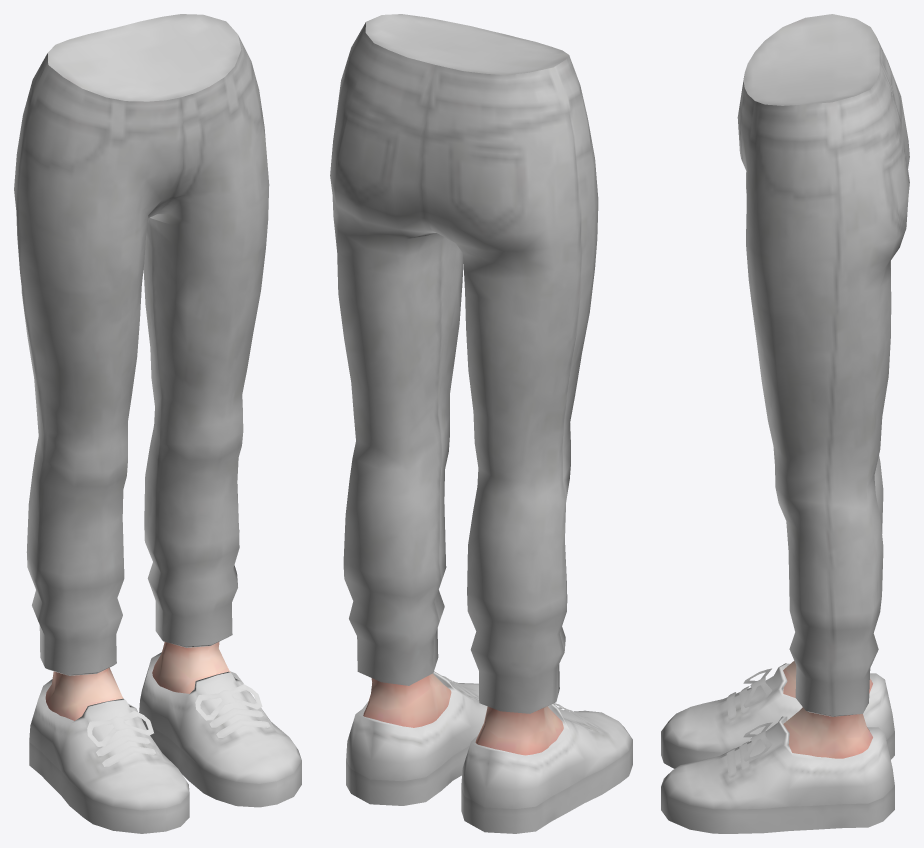
File: tr0810_00_lwb02.gltf
3 renders of one model, left to right at view 1: azimuth 30°, elevation 25°; view 2: azimuth 150°, elevation 25°; view 3: azimuth 270°, elevation 25°, orthographic. The views are drawn at different scales.
Visible parts, largest first — view 1: lwb02_lowerbody_mesh_shape:lowerbody02, lwb02_shoes_mesh_shape:lowerbody02, lwb02_lowerskin_mesh_shape:lowerbody02_skin; view 2: lwb02_lowerbody_mesh_shape:lowerbody02, lwb02_shoes_mesh_shape:lowerbody02, lwb02_lowerskin_mesh_shape:lowerbody02_skin; view 3: lwb02_lowerbody_mesh_shape:lowerbody02, lwb02_shoes_mesh_shape:lowerbody02, lwb02_lowerskin_mesh_shape:lowerbody02_skin.
Boxes of the visible parts, x1,y1,x2,y2 form: lwb02_lowerbody_mesh_shape:lowerbody02: (14, 14, 269, 675); lwb02_shoes_mesh_shape:lowerbody02: (29, 652, 301, 833); lwb02_lowerskin_mesh_shape:lowerbody02_skin: (45, 641, 230, 720); lwb02_lowerbody_mesh_shape:lowerbody02: (330, 14, 598, 713); lwb02_shoes_mesh_shape:lowerbody02: (346, 671, 632, 833); lwb02_lowerskin_mesh_shape:lowerbody02_skin: (363, 673, 563, 755); lwb02_lowerbody_mesh_shape:lowerbody02: (737, 14, 909, 716); lwb02_shoes_mesh_shape:lowerbody02: (661, 663, 894, 833); lwb02_lowerskin_mesh_shape:lowerbody02_skin: (783, 661, 872, 758).
Size of what is drawn, in the model's own units: 0.3355 by 0.9744 by 0.3029.
2 materials, 2 textured.
